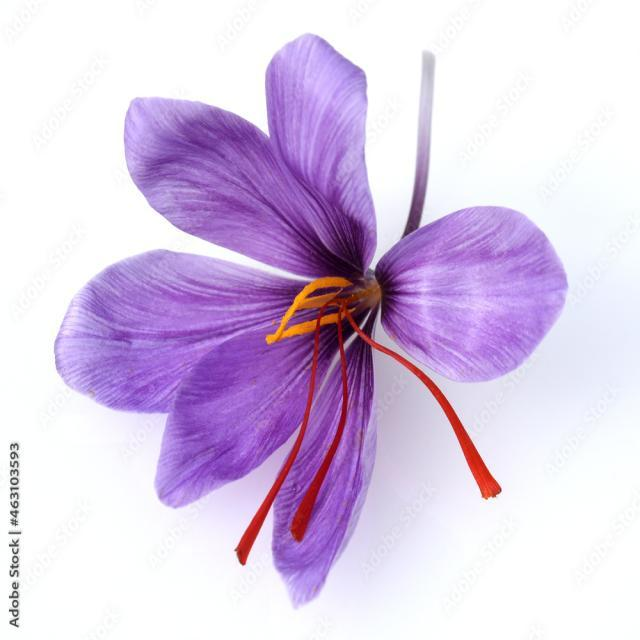Flower: (54, 33, 568, 608)
stigma: (341, 298, 504, 505), (233, 292, 341, 568), (286, 299, 354, 546)
